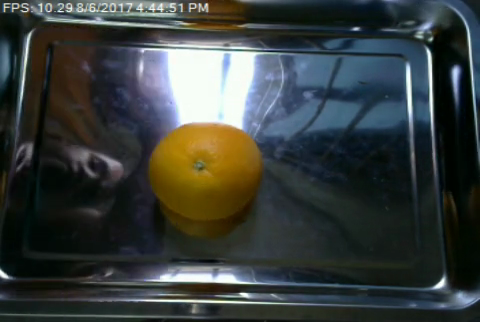Orange: (147, 122, 265, 220)
